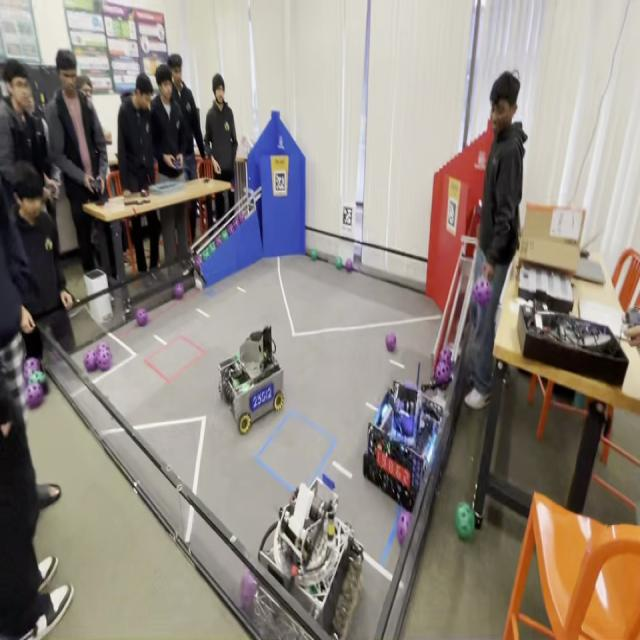artifact_green: (455, 503, 475, 541), (28, 371, 48, 394), (98, 350, 112, 372), (24, 357, 41, 372), (572, 394, 586, 410), (136, 309, 148, 327), (28, 371, 45, 383), (194, 254, 203, 269), (209, 243, 217, 257), (240, 383, 251, 393), (209, 242, 219, 253), (202, 247, 211, 259), (336, 256, 343, 270), (214, 235, 222, 247), (227, 222, 234, 235), (208, 243, 215, 255), (200, 247, 207, 259), (221, 229, 228, 241), (310, 248, 317, 260), (237, 213, 245, 223)
artifact_purple: (240, 569, 257, 611), (473, 277, 491, 306), (25, 384, 44, 410), (28, 371, 48, 395), (397, 511, 411, 545), (24, 358, 41, 382), (435, 361, 451, 385), (97, 350, 111, 372), (401, 414, 414, 437), (84, 350, 97, 372), (439, 345, 452, 365), (136, 309, 148, 327), (386, 332, 397, 351), (96, 348, 111, 361), (174, 283, 184, 299), (233, 216, 240, 231), (96, 347, 111, 354), (345, 259, 353, 272), (97, 342, 110, 350), (220, 229, 228, 241), (228, 223, 235, 235), (195, 255, 202, 267), (215, 236, 222, 247), (232, 217, 237, 232), (238, 213, 245, 223)
